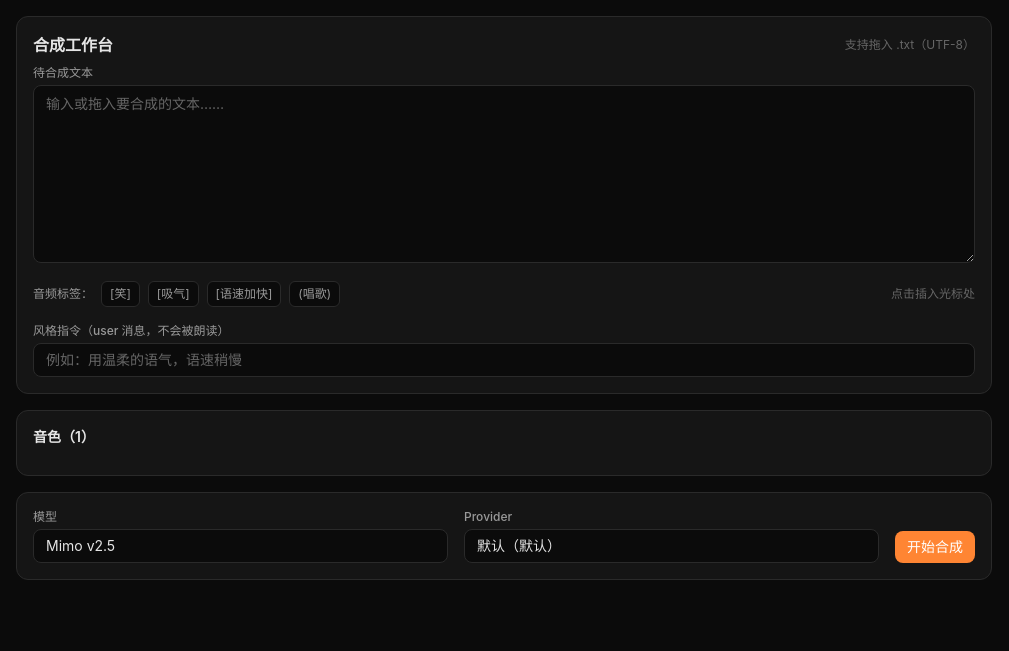
Scenario: Workbench › 空文本提交时显示错误
The width and height of the screenshot is (1009, 651).
Click the button with test id "workbench-submit". click: (935, 547)
box: [895,531,975,563]
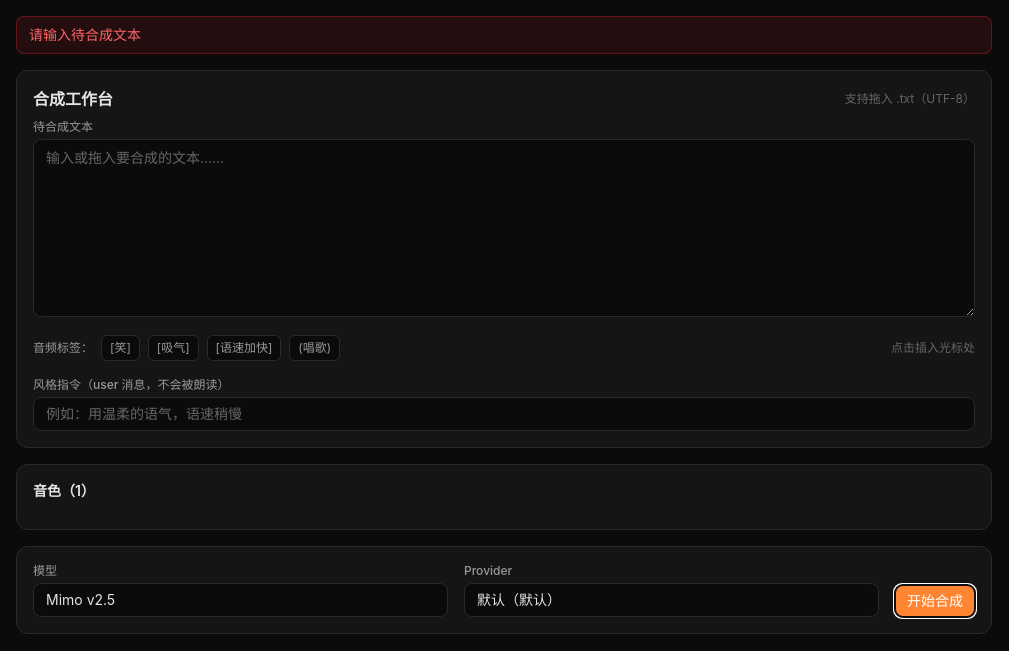
Check: the text "请输入待合成文本" is shown, box [16,16,992,54]
